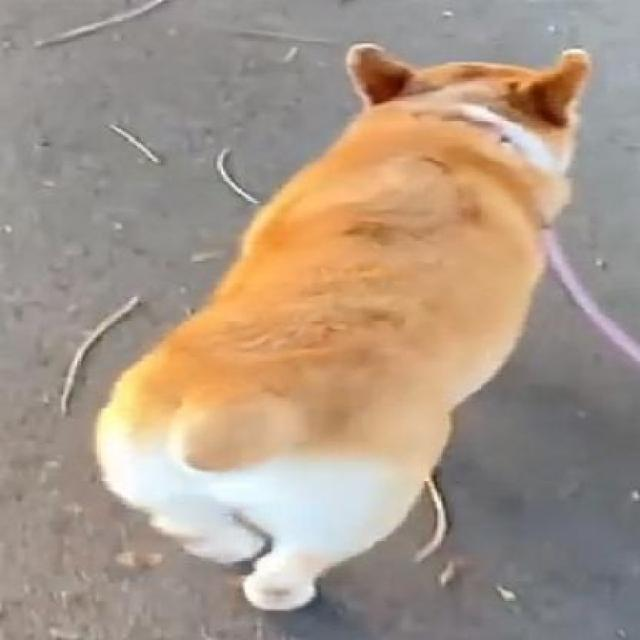Dog: (92, 34, 596, 609)
